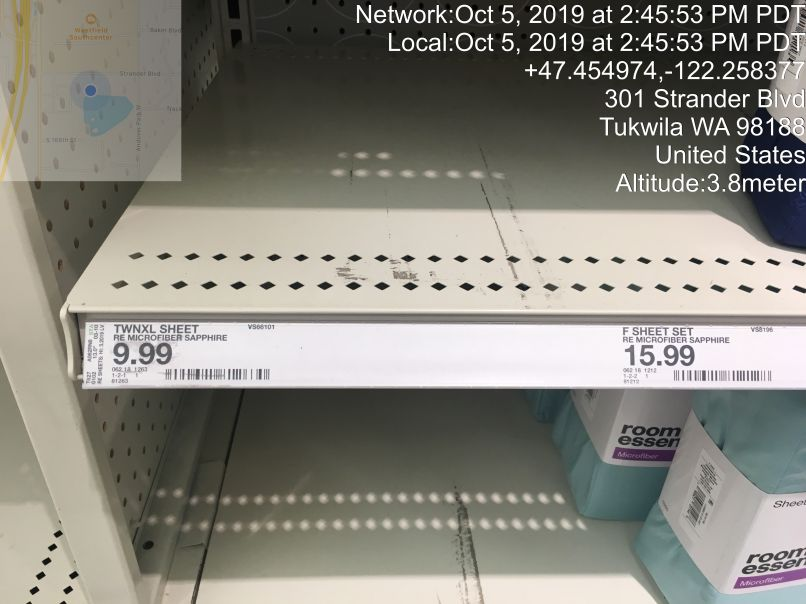Label: (84, 316, 280, 389), (611, 322, 780, 391)
Location: (595, 84, 806, 171)
Time: (349, 1, 806, 54)
Void: (185, 23, 716, 285)
